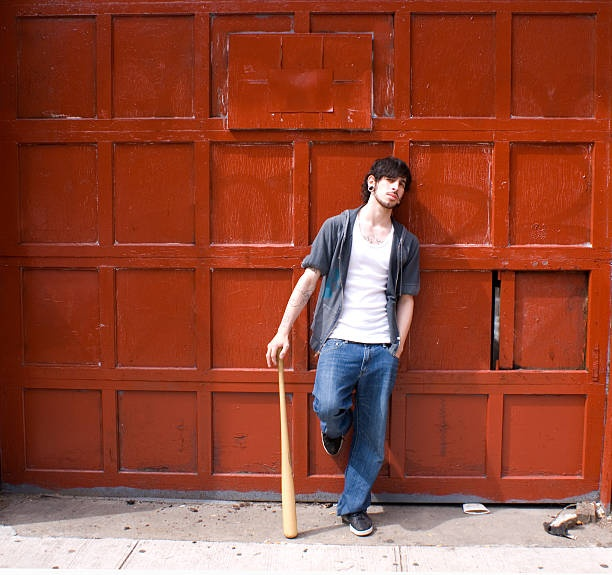bita: (272, 344, 303, 541)
